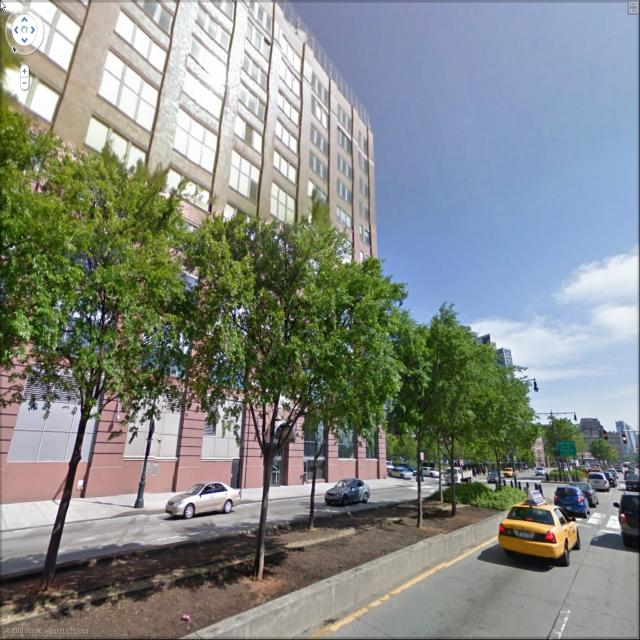b_2: (0, 4, 392, 487), (460, 329, 520, 419), (574, 406, 621, 462), (513, 419, 550, 473)
